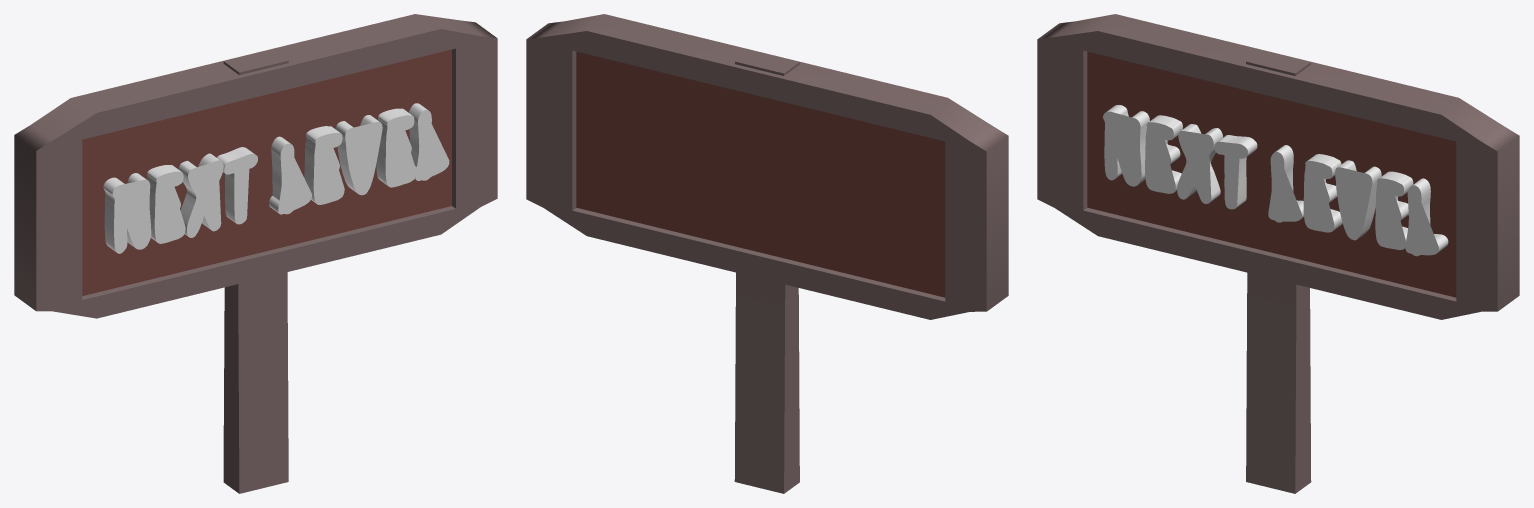
Rendered from sign_nextlevel1.fbx.
The picture shows the model from 3 angles, left to right: view 1: azimuth 30°, elevation 25°; view 2: azimuth 150°, elevation 25°; view 3: azimuth 330°, elevation 25°; orthographic projection.
Visible parts, largest first — view 1: sign1; view 2: sign1; view 3: sign1.
Boxes of the visible parts, <box> form: sign1: <box>14,14,497,493</box>; sign1: <box>526,14,1008,493</box>; sign1: <box>1037,14,1519,493</box>.
Bounding box in the file's own units: 6.81 × 5.94 × 0.6949.
